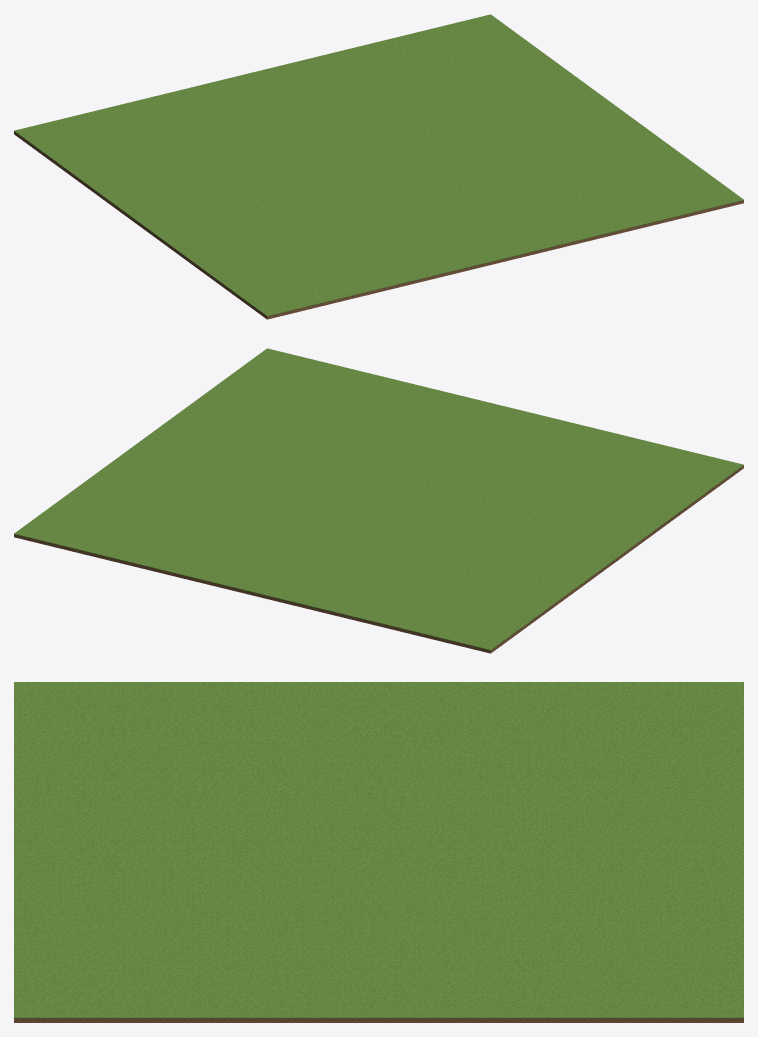
Rendered from Karta_leto.obj.
3 renders of one model, top to bottom at view 1: azimuth 30°, elevation 25°; view 2: azimuth 150°, elevation 25°; view 3: azimuth 270°, elevation 25°, orthographic. The views are drawn at different scales.
Parts seen in each view (by area): view 1: _____31_0_485_to_167_1_610; view 2: _____31_0_485_to_167_1_610; view 3: _____31_0_485_to_167_1_610.
Boxes of the visible parts, x1,y1,x2,y2 form: _____31_0_485_to_167_1_610: [14, 14, 743, 319]; _____31_0_485_to_167_1_610: [14, 348, 743, 653]; _____31_0_485_to_167_1_610: [14, 682, 743, 1022].
Bounding box in the file's own units: 137 × 1 × 126.
3 materials, 3 textured.
